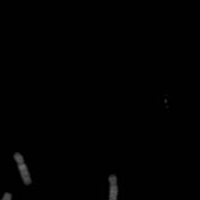chromosome: (14, 153, 31, 184), (107, 175, 117, 200), (0, 192, 10, 200)
